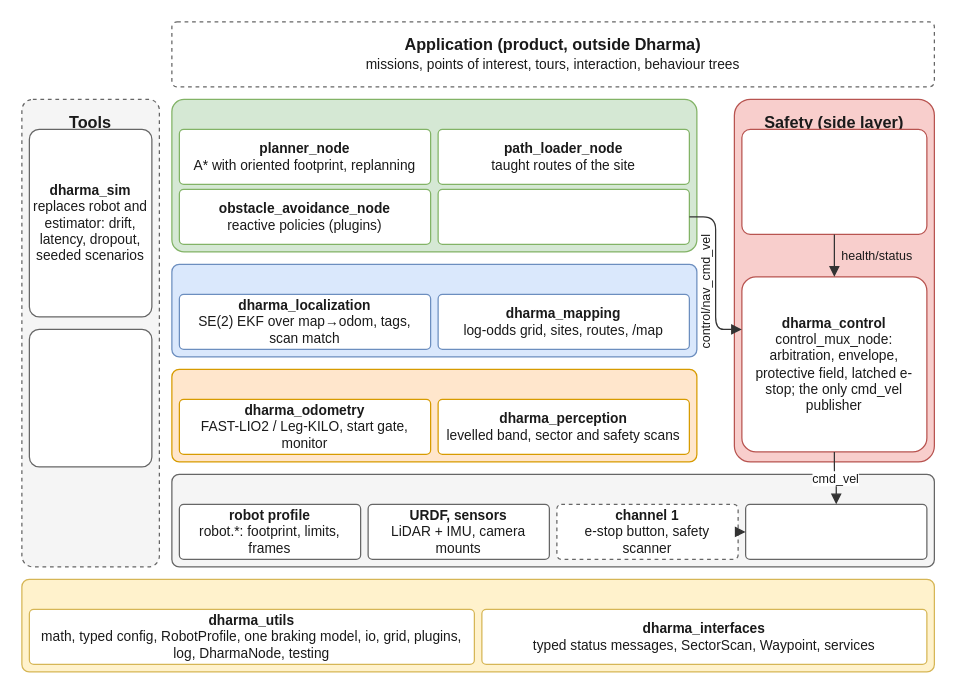
This 956x694 diagram has some shape labels left out. Here are the shapes that lost their labels. From the top down, the box of each, then its label:
(171, 98, 697, 252): Navigation · dharma_navigation
(741, 128, 927, 234): dharma_health topic rates, stamp ages, TF edge ages; speed scale for the mux
(437, 188, 689, 244): path_follower_node state machine, controllers, path shift
(171, 263, 697, 357): World model
(28, 328, 152, 467): dharma_rviz mission, safety, status, tuning and tag panels
(171, 368, 697, 462): Estimation and local perception
(171, 473, 934, 567): Robot adapter (product bringup)
(744, 503, 927, 559): robot driver cmd_vel, odom, battery; drive cut-off
(21, 578, 934, 672): Base
